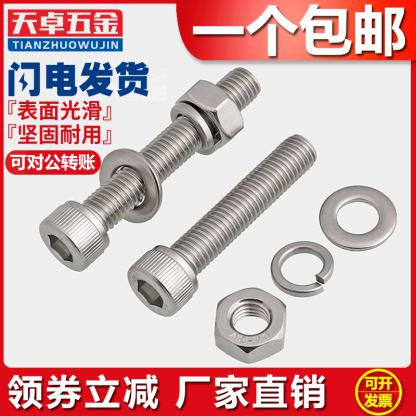FOD: (35, 65, 263, 274), (125, 131, 320, 318), (214, 286, 287, 366), (317, 184, 397, 252)
